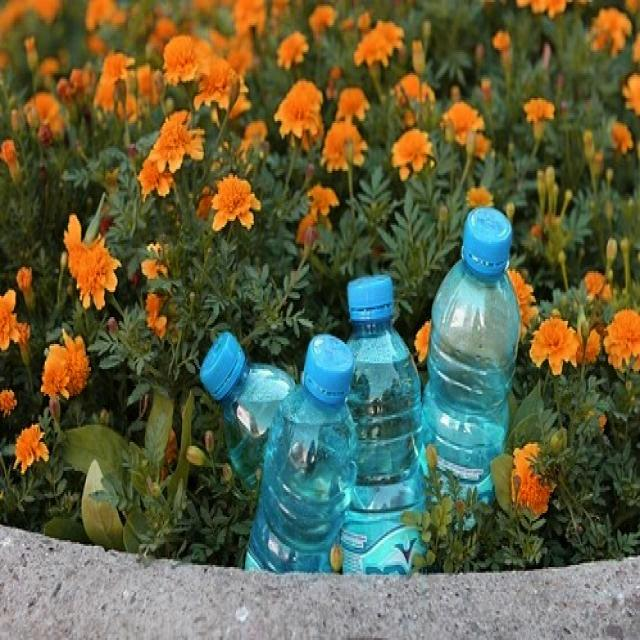bottle: (423, 207, 521, 505), (245, 334, 354, 573), (340, 274, 423, 574), (199, 331, 291, 492)
